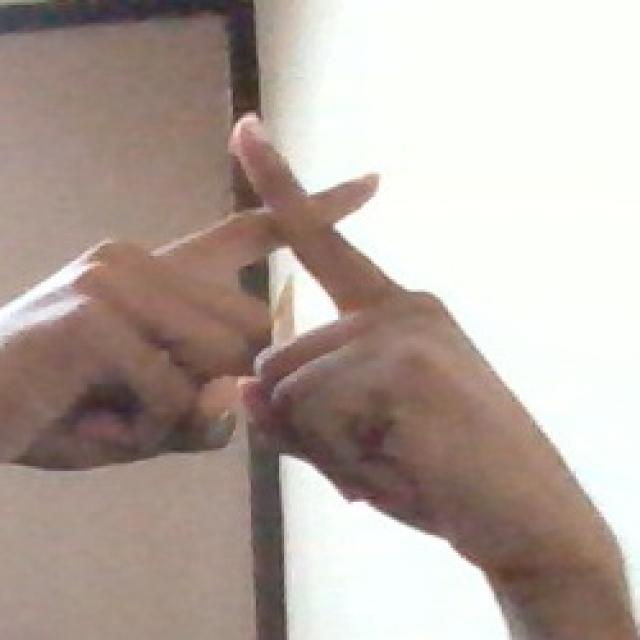Alphabet-X: (0, 98, 561, 537)
